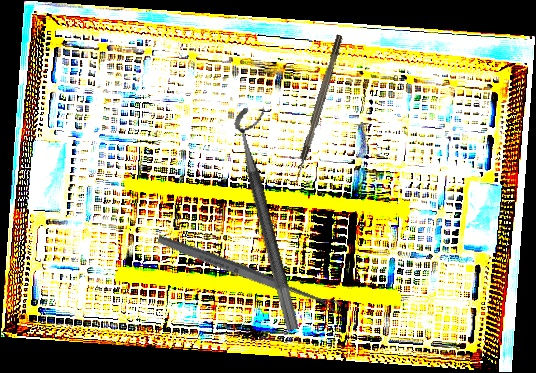Fixation Ring: (231, 103, 318, 332)
Hook Surgical: (291, 34, 345, 185)
Surgical Spoon: (156, 232, 341, 315)
